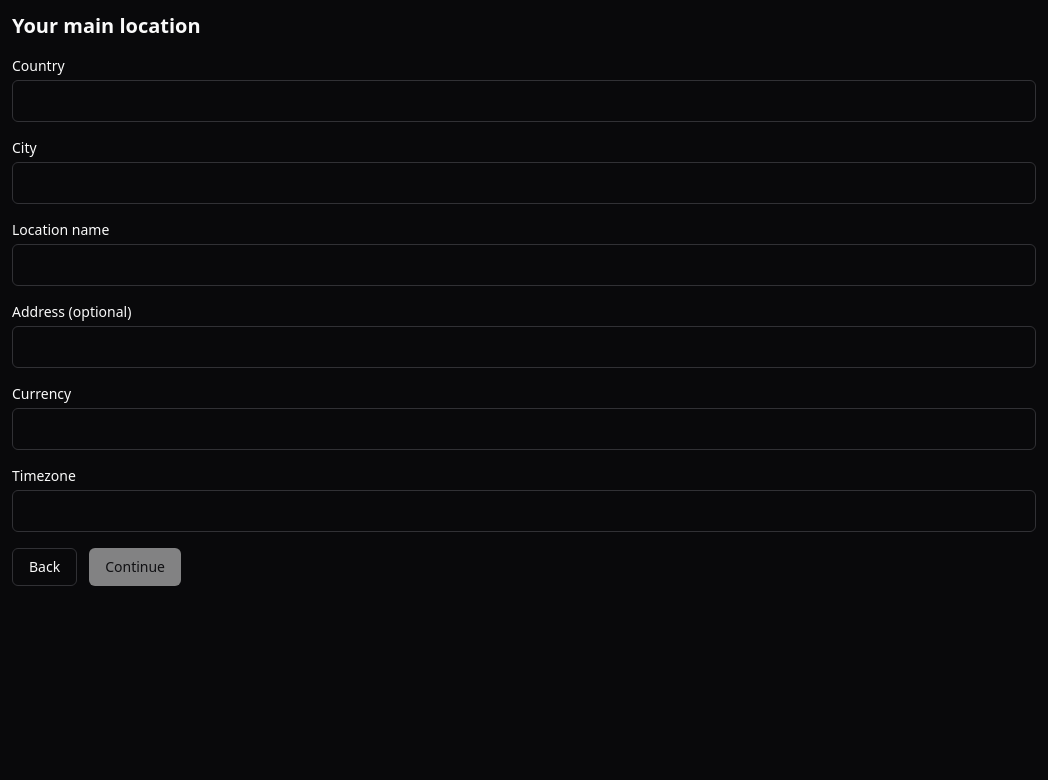
Test case: EstablishmentLocationStep › keeps Continue disabled until country, city, location name, currency, and timezone are all filled — address stays optional
Expected: the button "Continue" is disabled, 89,548 -> 181,586
In the field labelled "Country": [524, 101] box 12,80 -> 1036,122, type "BI"
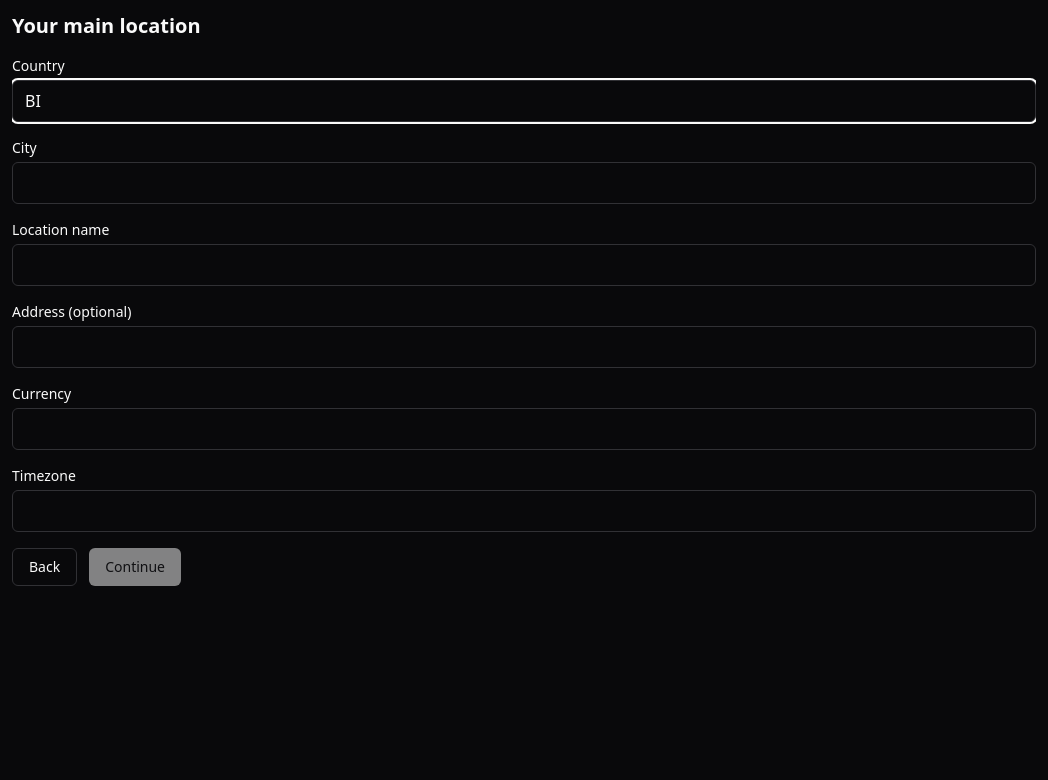
In the field labelled "City": [524, 183] box 12,162 -> 1036,204, type "Bujumbura"
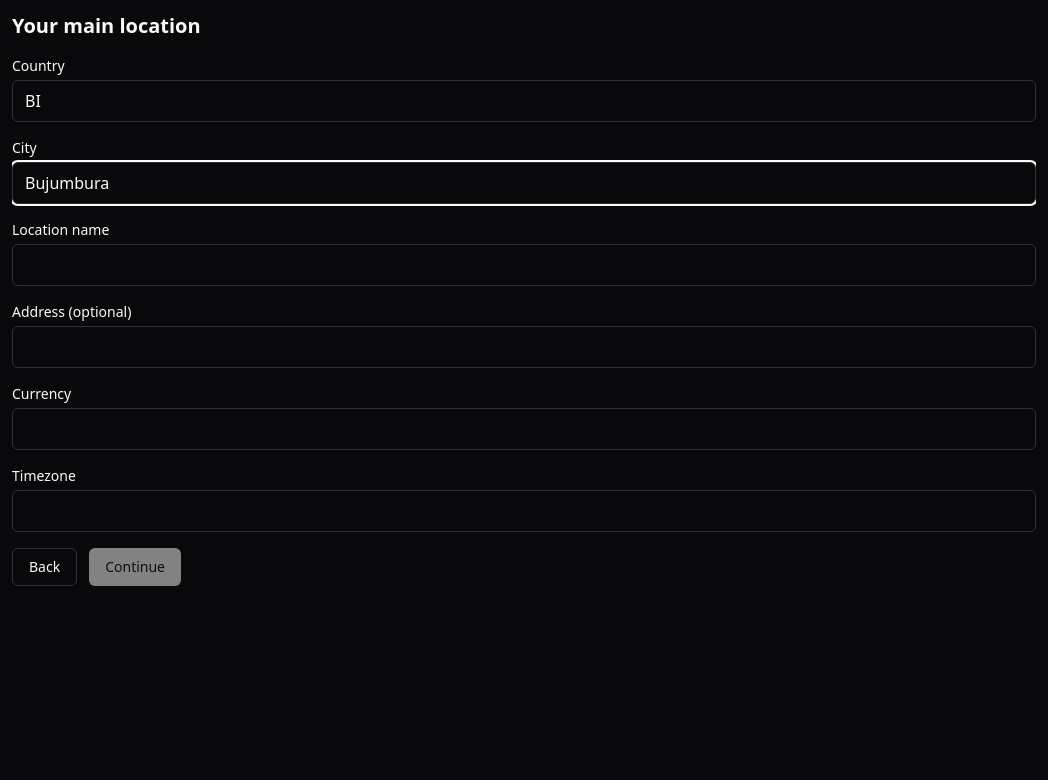
In the field labelled "Location name": [524, 265] box 12,244 -> 1036,286, type "Main Branch"
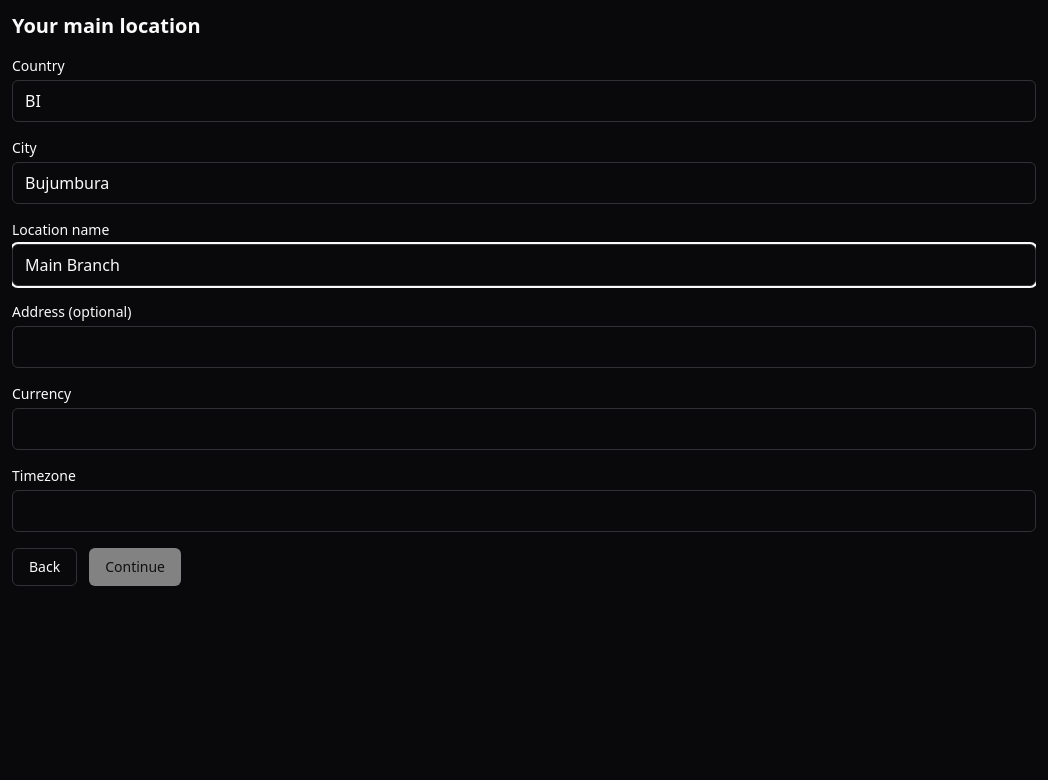
In the field labelled "Currency": [524, 429] box 12,408 -> 1036,450, type "BIF"
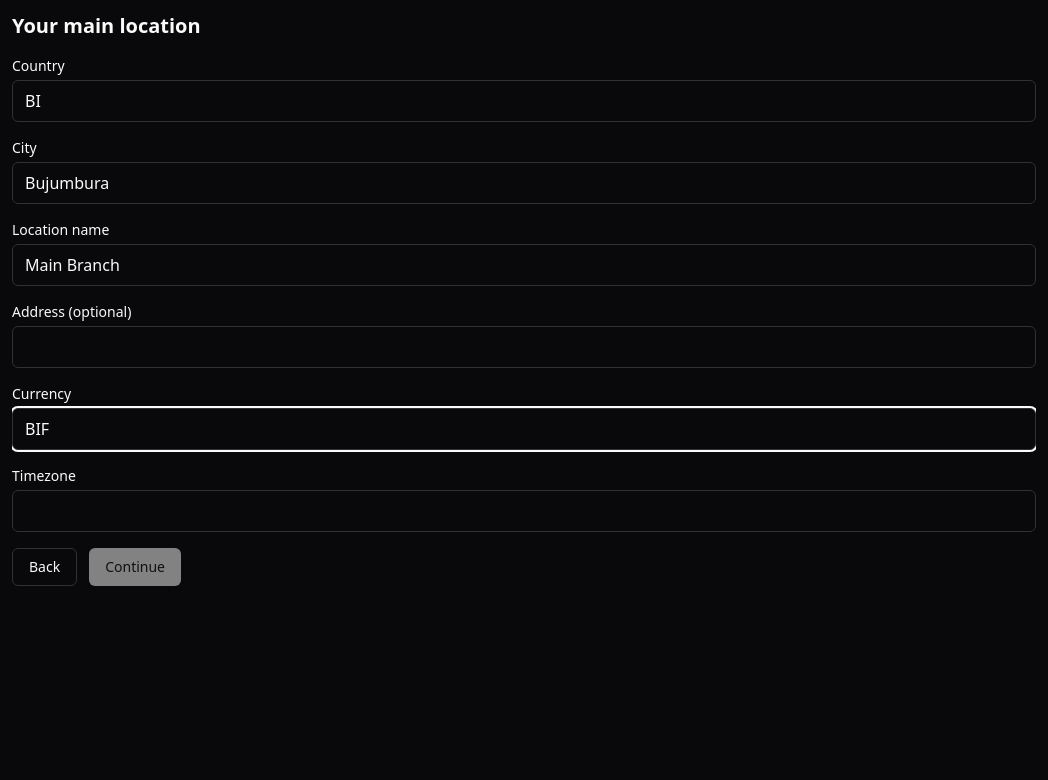
In the field labelled "Timezone": [524, 511] box 12,490 -> 1036,532, type "Africa/Bujumbura"
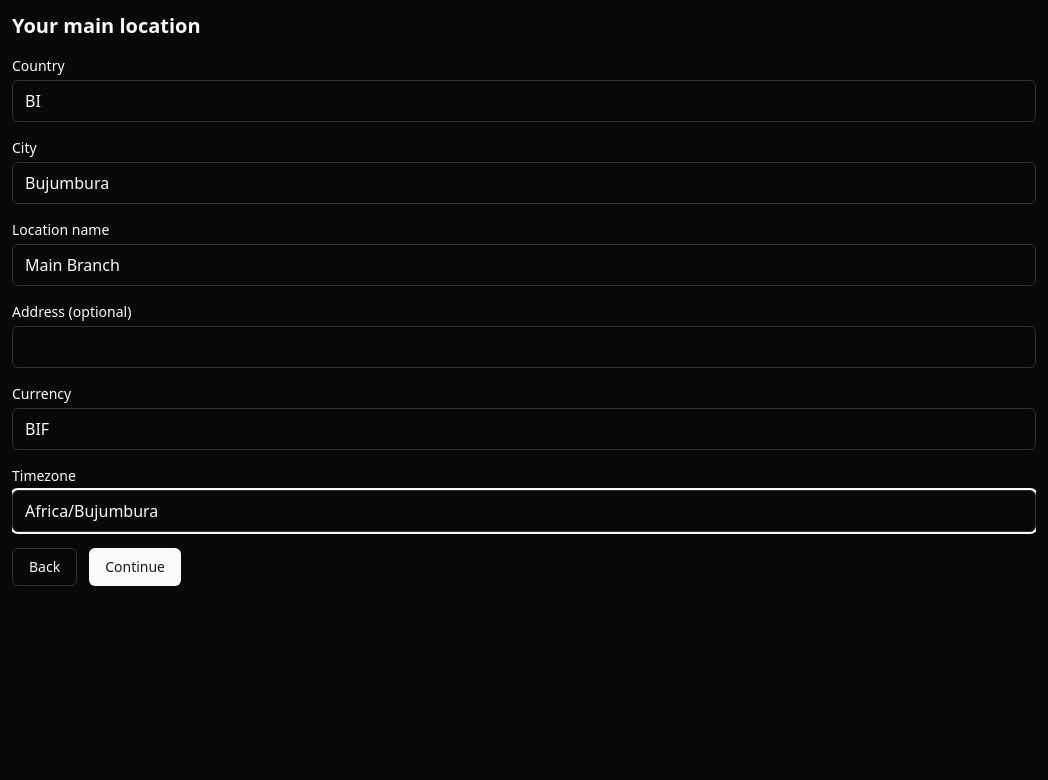
Expected: the button "Continue" is enabled, 89,548 -> 181,586
